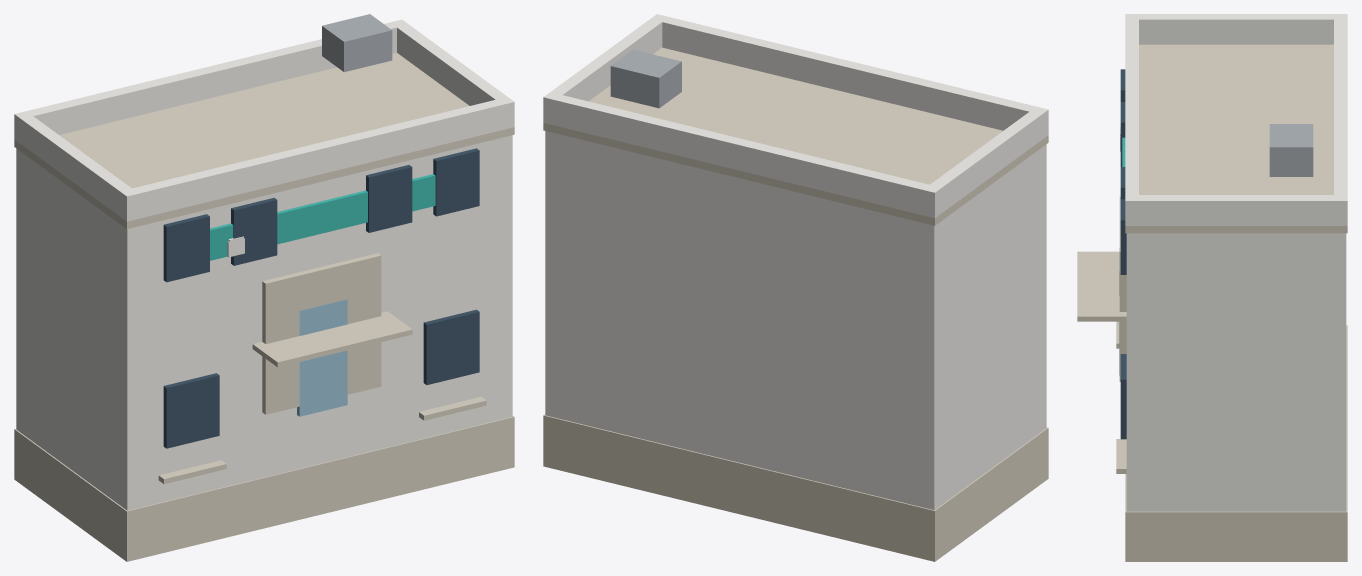
The model's file is building.clinic.glb.
The picture shows the model from 3 angles, left to right: view 1: azimuth 30°, elevation 25°; view 2: azimuth 150°, elevation 25°; view 3: azimuth 270°, elevation 25°; orthographic projection. The views are drawn at different scales.
Visible parts, largest first — view 1: building.clinic; view 2: building.clinic; view 3: building.clinic.
Part boxes in pixels (x1=…): building.clinic: x1=14, y1=14, x2=514, y2=561; building.clinic: x1=543, y1=14, x2=1048, y2=561; building.clinic: x1=1077, y1=14, x2=1347, y2=561.
Bounding box in the file's own units: 8.05 × 7.85 × 4.93.
